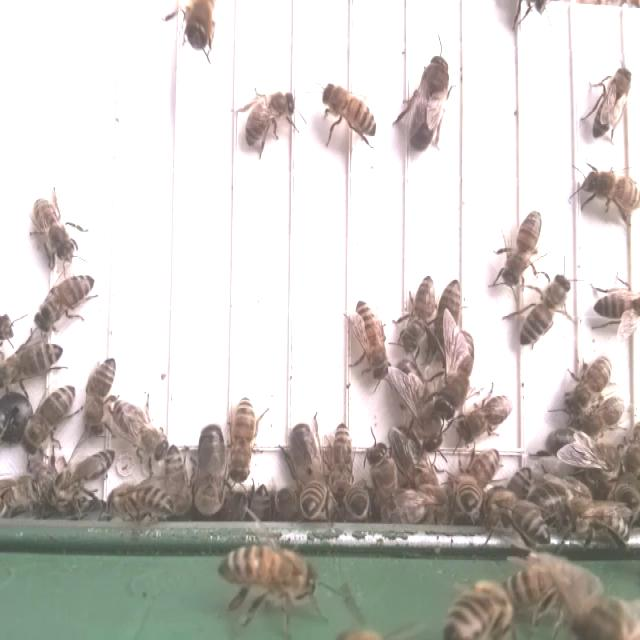Drone: (407, 51, 452, 156), (194, 412, 227, 522)
Worker: (518, 270, 570, 349), (111, 398, 171, 463), (496, 206, 544, 287), (587, 63, 634, 144), (240, 87, 298, 150), (28, 381, 78, 454), (563, 348, 614, 417), (321, 82, 381, 140), (37, 271, 97, 329), (81, 348, 117, 442), (33, 192, 78, 267), (399, 268, 437, 353), (355, 296, 390, 386), (575, 165, 640, 212), (460, 392, 515, 445), (1, 339, 66, 381), (227, 392, 258, 479), (588, 284, 640, 327)
